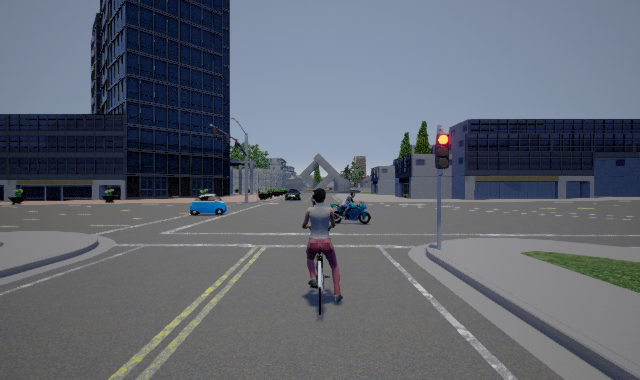bike: (300, 189, 343, 317)
motobike: (330, 191, 371, 224)
traffic_light: (435, 133, 449, 169)
vehicle: (190, 194, 227, 216), (284, 187, 299, 201)
